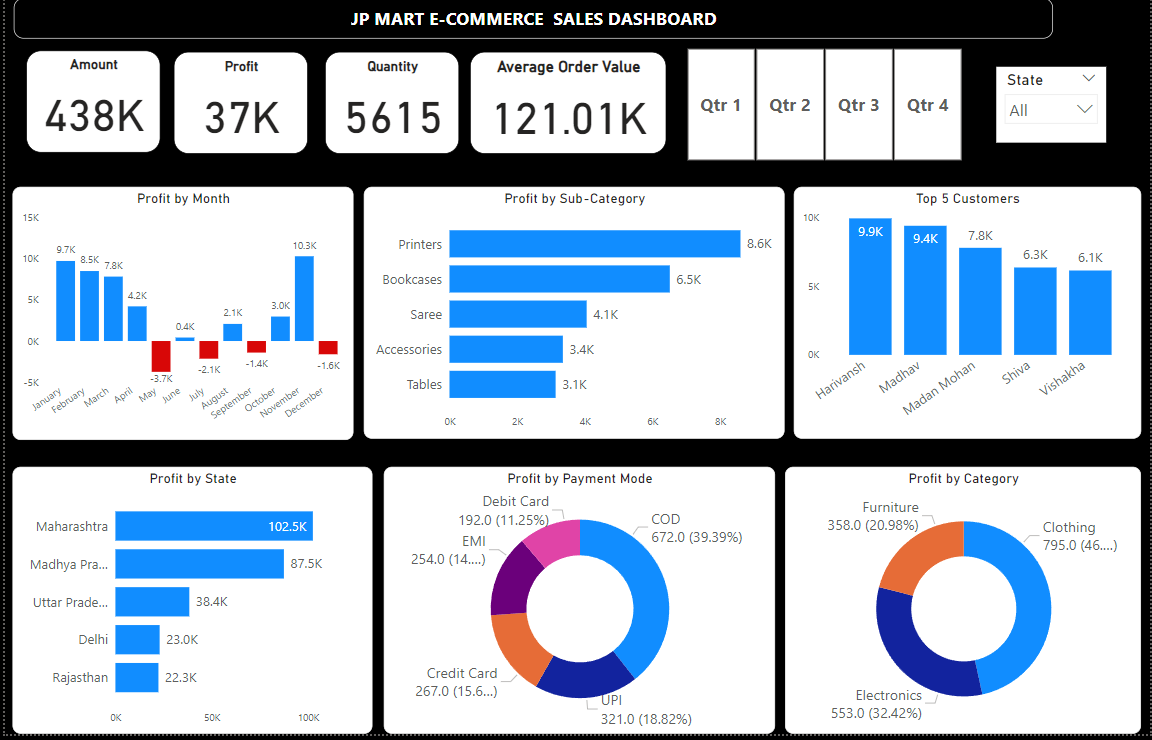

The page's visual inventory and layout, read from the dashboard file:
{"tool":"powerbi","page":{"name":"Page 1","canvas":[1400,900],"ordinal":0},"visuals":[{"type":"textbox","box":[10,0,1270,49.8],"z":0},{"type":"columnChart","title":" Profit by Month","fields":{"Category":["Orders.Order Date.Variation.Date Hierarchy.Month"],"Y":["Details.Profit"]},"box":[9.5,230.4,416.6,309.3],"z":1000},{"type":"clusteredBarChart","title":" Profit by Sub-Category","fields":{"Category":["Details.Sub-Category"],"Y":["Details.Profit"]},"box":[438.7,230.4,514.4,307.7],"z":2000},{"type":"donutChart","title":" Profit by Category","fields":{"Y":["Details.Quantity"],"Category":["Details.Category"]},"box":[953.1,572.8,435.5,326.7],"z":3000},{"type":"donutChart","title":"Profit by Payment Mode","fields":{"Y":["Details.Quantity"],"Category":["Details.PaymentMode"]},"box":[462.4,572.8,478.1,326.7],"z":4000},{"type":"card","title":"Amount","fields":{"Values":["Details.Amount"]},"box":[25.2,64.7,164.1,124.7],"z":5000},{"type":"card","title":"Profit","fields":{"Values":["Details.Profit"]},"box":[206.7,66.3,164.1,124.7],"z":6000},{"type":"card","title":"Quantity","fields":{"Values":["Details.Quantity"]},"box":[391.3,66.3,164.1,124.7],"z":7000},{"type":"card","title":"Amount","fields":{"Values":["Details.AOV"]},"box":[568.1,66.3,239.9,124.7],"z":8000},{"type":"clusteredBarChart","title":" Profit by State","fields":{"Category":["Orders.State"],"Y":["Details.Amount"]},"box":[9.5,572.8,440.3,326.7],"z":9000},{"type":"columnChart","title":"Top 5 Customers","fields":{"Category":["Orders.CustomerName"],"Y":["Details.Amount"]},"box":[964.2,230.4,424.5,307.7],"z":10000},{"type":"slicer","fields":{"Values":["Orders.Order Date.Variation.Date Hierarchy.Quarter"]},"box":[807.9,55.2,385,149.9],"z":11000},{"type":"slicer","fields":{"Values":["Orders.State"]},"box":[1211.9,83.6,134.1,93.1],"z":12000}]}

Visuals, with their boxes in screenshot pixels (x1, y1, x2, y2), scaled from the page's 1400x900 canvas onto the 1152x740 screenshot:
textbox: Rect(8, 0, 1053, 41)
" Profit by Month" columnChart: Rect(8, 189, 351, 444)
" Profit by Sub-Category" clusteredBarChart: Rect(361, 189, 784, 442)
" Profit by Category" donutChart: Rect(784, 471, 1143, 739)
"Profit by Payment Mode" donutChart: Rect(380, 471, 774, 739)
"Amount" card: Rect(21, 53, 156, 156)
"Profit" card: Rect(170, 55, 305, 157)
"Quantity" card: Rect(322, 55, 457, 157)
"Amount" card: Rect(467, 55, 665, 157)
" Profit by State" clusteredBarChart: Rect(8, 471, 370, 739)
"Top 5 Customers" columnChart: Rect(793, 189, 1143, 442)
slicer - Orders.Order Date.Variation.Date Hierarchy.Quarter: Rect(665, 45, 982, 169)
slicer - Orders.State: Rect(997, 69, 1108, 145)
